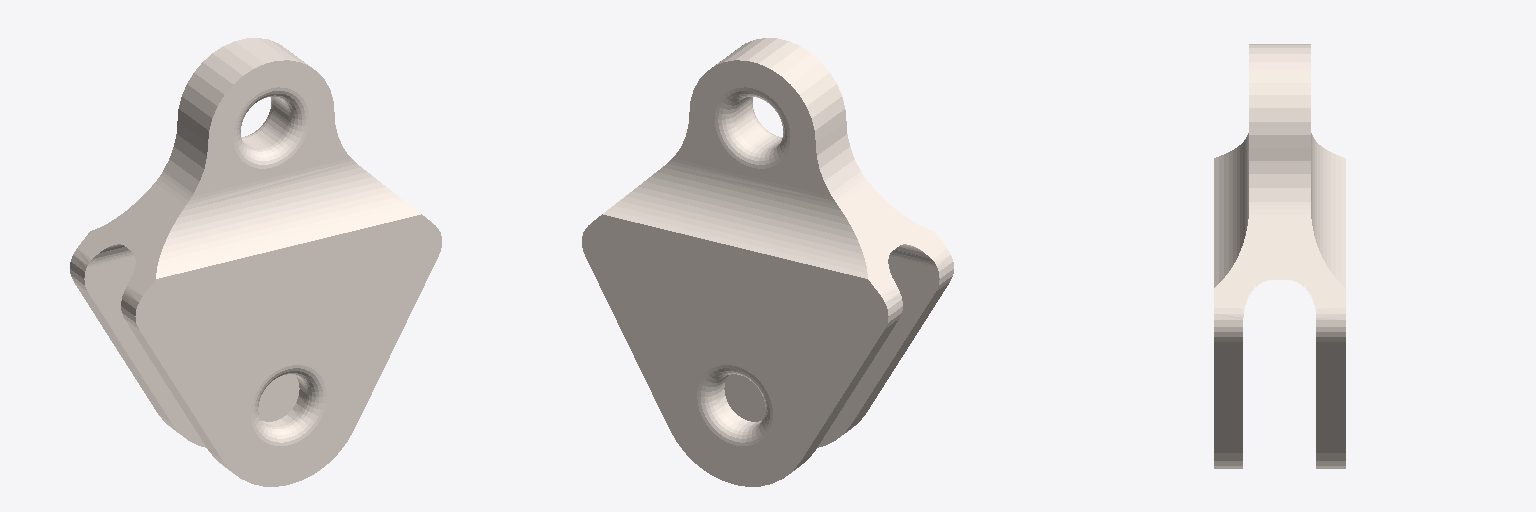
Rendered from sece_prob2.obj.
3 renders of one model, left to right at view 1: azimuth 30°, elevation 25°; view 2: azimuth 150°, elevation 25°; view 3: azimuth 270°, elevation 25°, orthographic.
Visible parts, largest first — view 1: SecE_Prob2; view 2: SecE_Prob2; view 3: SecE_Prob2.
Part boxes in pixels (bbox=[...]): SecE_Prob2: bbox=[70, 38, 441, 486]; SecE_Prob2: bbox=[582, 38, 953, 486]; SecE_Prob2: bbox=[1214, 44, 1345, 468].
Bounding box in the file's own units: 0.1213 × 0.1549 × 0.045.